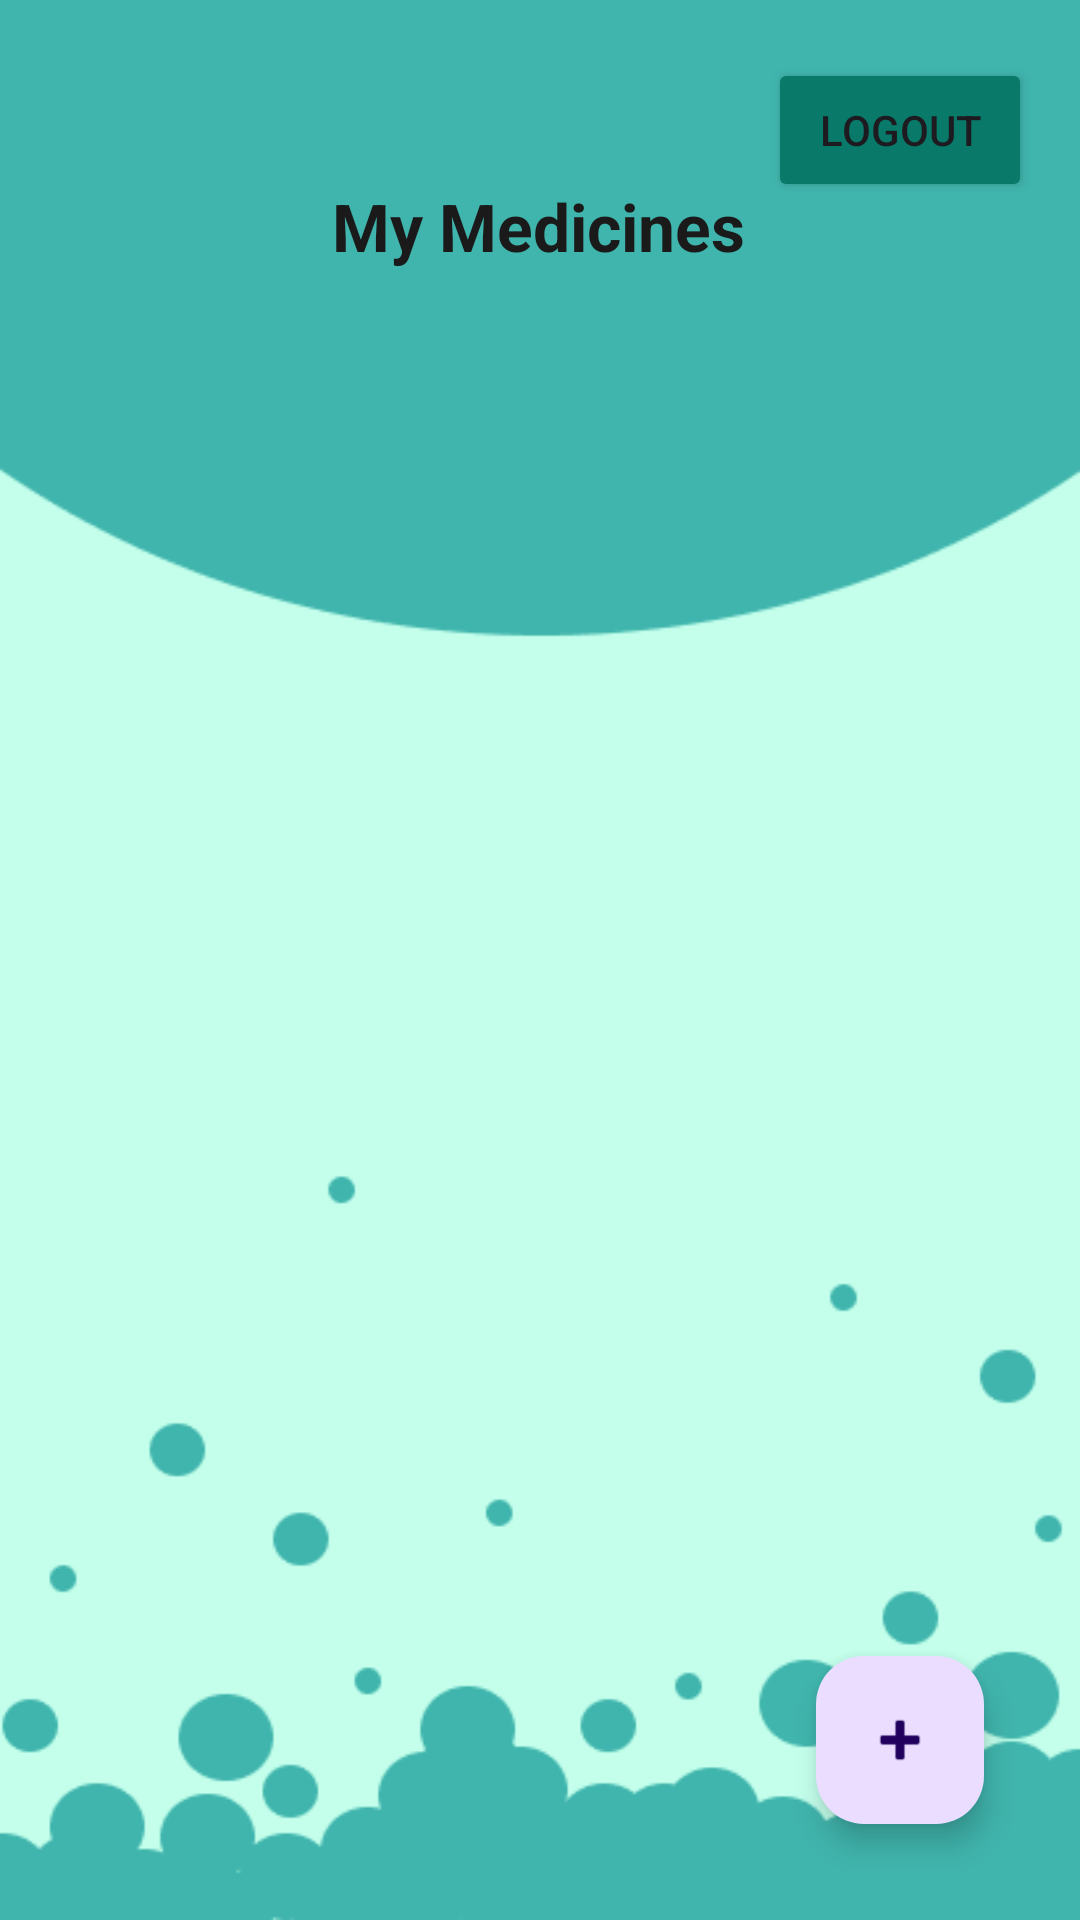

Point at icon controls on the screen. Image size 1080x1920, points as point (x, y).
Add Medicine: point (900, 1740)
